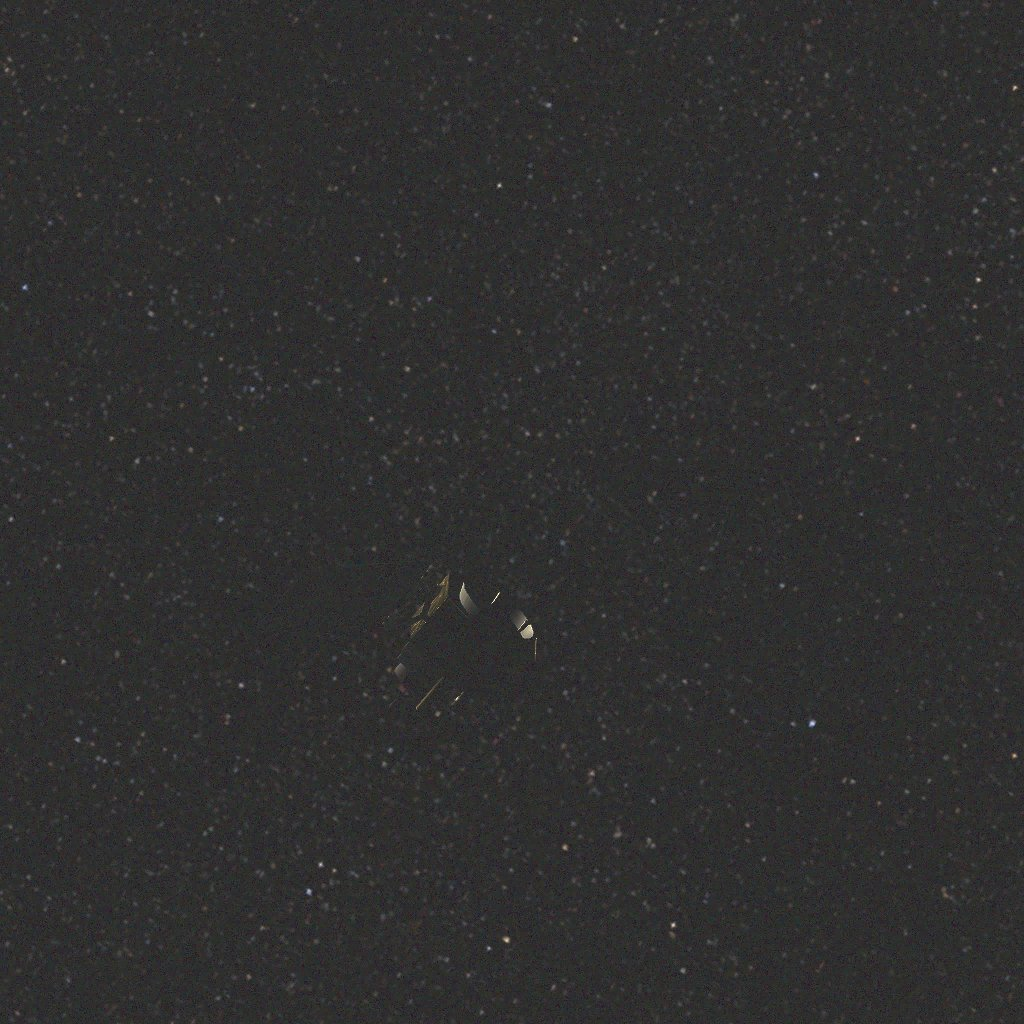earth_observation_sat_1: (245, 560, 538, 725)
